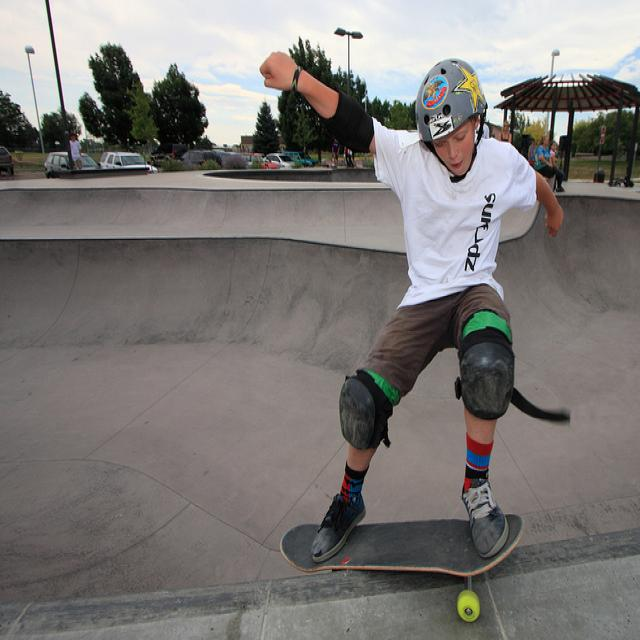Vehicle: (44, 153, 102, 179), (94, 150, 159, 172), (182, 150, 222, 168), (243, 152, 277, 169), (284, 151, 320, 167), (0, 146, 14, 175), (267, 152, 295, 166), (152, 154, 180, 166)
